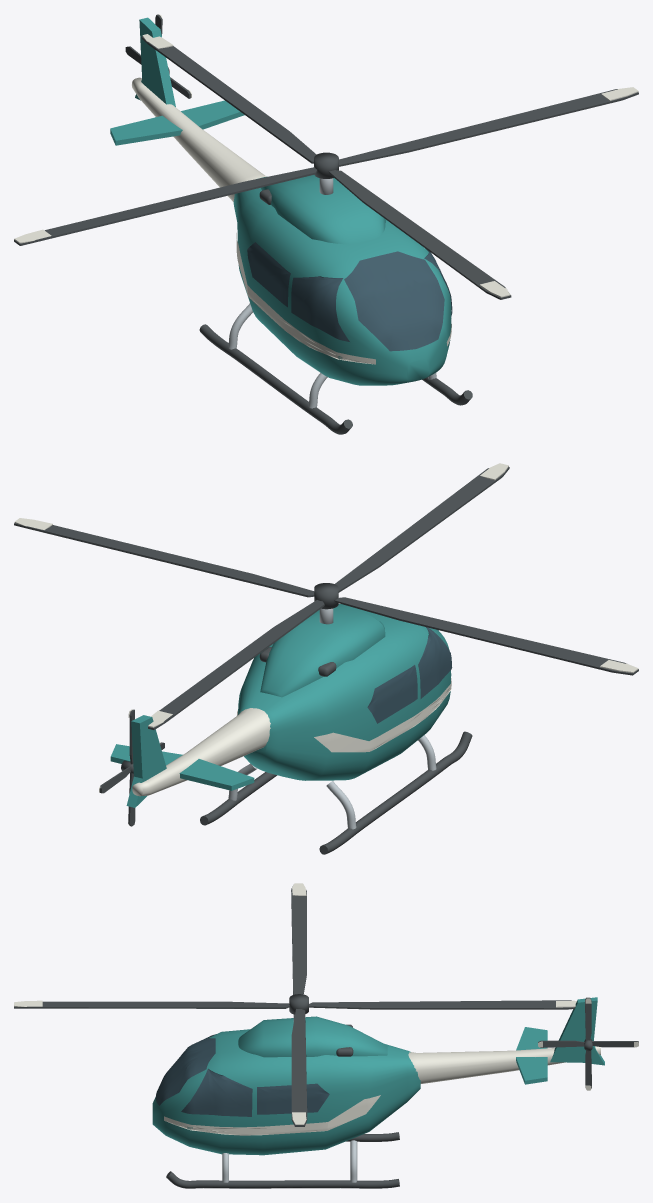
Rendered from Helikopter.glb.
3 renders of one model, top to bottom at view 1: azimuth 30°, elevation 25°; view 2: azimuth 150°, elevation 25°; view 3: azimuth 270°, elevation 25°, orthographic. The views are drawn at different scales.
Parts seen in each view (by area): view 1: Helikopter_Petrol, Hauptrotor_Pulverbeschichteter Stahl, Helikopter_Getoentes Glas, Helikopter_Cremeweiss, Helikopter_Pulverbeschichteter Stahl, Hauptrotor_Cremeweiss, Helikopter_Satin-Aluminium; view 2: Helikopter_Petrol, Hauptrotor_Pulverbeschichteter Stahl, Helikopter_Cremeweiss, Helikopter_Getoentes Glas, Helikopter_Pulverbeschichteter Stahl, Helikopter_Satin-Aluminium, Hauptrotor_Cremeweiss, Heckrotor_Pulverbeschichteter Stahl; view 3: Helikopter_Petrol, Hauptrotor_Pulverbeschichteter Stahl, Helikopter_Getoentes Glas, Helikopter_Cremeweiss, Helikopter_Pulverbeschichteter Stahl, Heckrotor_Pulverbeschichteter Stahl, Hauptrotor_Cremeweiss, Helikopter_Satin-Aluminium.
Part boxes in pixels (box(x1,y1,x2,y2)): Helikopter_Petrol: box(110, 17, 451, 385); Hauptrotor_Pulverbeschichteter Stahl: box(14, 36, 638, 299); Helikopter_Getoentes Glas: box(247, 242, 452, 351); Helikopter_Cremeweiss: box(132, 77, 451, 364); Helikopter_Pulverbeschichteter Stahl: box(199, 189, 472, 434); Hauptrotor_Cremeweiss: box(14, 34, 638, 297); Helikopter_Satin-Aluminium: box(228, 178, 436, 408); Helikopter_Petrol: box(110, 604, 451, 807); Hauptrotor_Pulverbeschichteter Stahl: box(14, 467, 638, 729); Helikopter_Cremeweiss: box(132, 678, 451, 796); Helikopter_Getoentes Glas: box(367, 627, 452, 723); Helikopter_Pulverbeschichteter Stahl: box(200, 647, 472, 854); Helikopter_Satin-Aluminium: box(228, 608, 436, 829); Hauptrotor_Cremeweiss: box(14, 463, 638, 727); Heckrotor_Pulverbeschichteter Stahl: box(100, 709, 164, 826); Helikopter_Petrol: box(152, 997, 604, 1155); Hauptrotor_Pulverbeschichteter Stahl: box(14, 886, 575, 1126); Helikopter_Getoentes Glas: box(155, 1034, 329, 1116); Helikopter_Cremeweiss: box(164, 1046, 600, 1135); Helikopter_Pulverbeschichteter Stahl: box(166, 1024, 399, 1188); Heckrotor_Pulverbeschichteter Stahl: box(538, 997, 638, 1088); Hauptrotor_Cremeweiss: box(14, 883, 576, 1124); Helikopter_Satin-Aluminium: box(222, 1014, 357, 1182).
Bounding box in the file's own units: 9.3 × 3.09 × 10.19.
